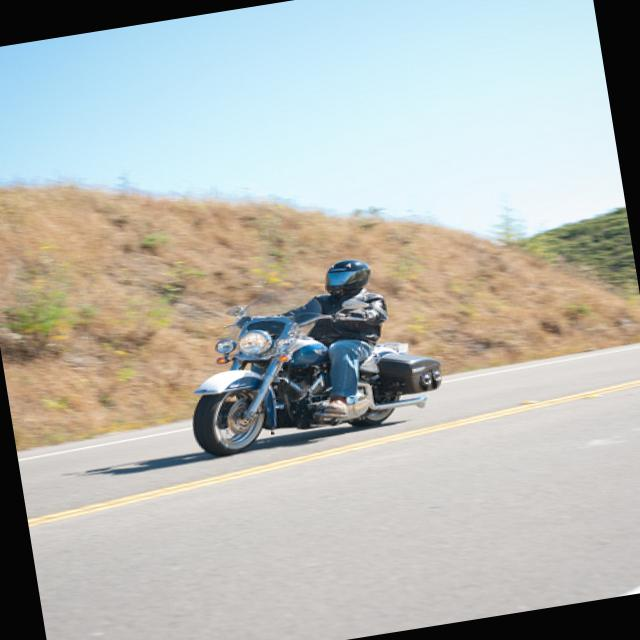Vehicle: (178, 268, 464, 457)
